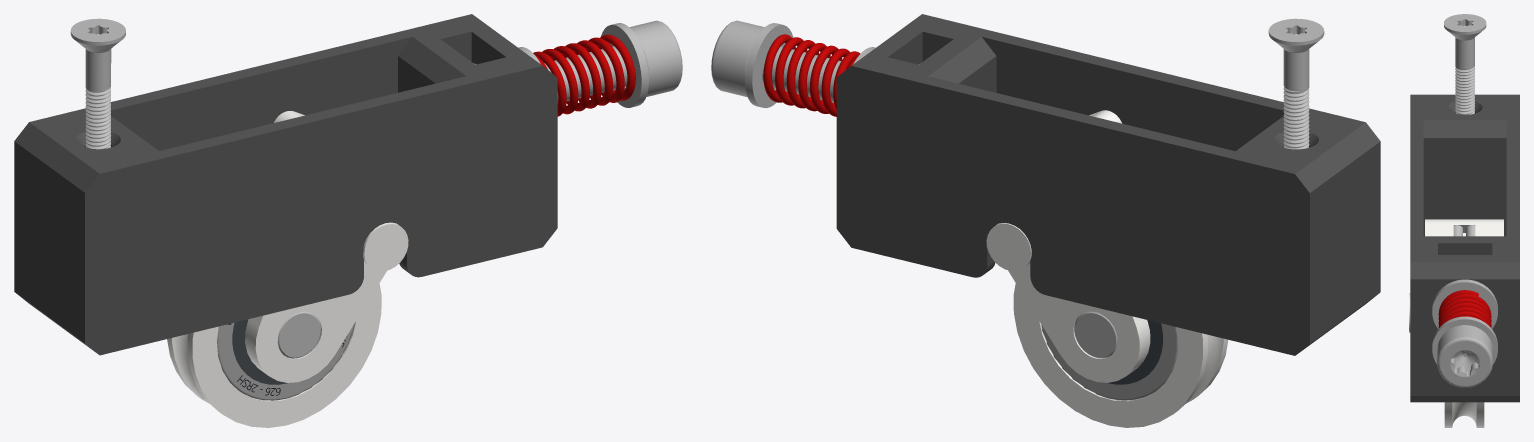
Rendered from WindowRoller_FullAssembly.glb.
The picture shows the model from 3 angles, left to right: view 1: azimuth 30°, elevation 25°; view 2: azimuth 150°, elevation 25°; view 3: azimuth 270°, elevation 25°; orthographic projection. The views are drawn at different scales.
Visible parts, largest first — view 1: BaseBody, Pulley, PulleyHolder, Spring, M3x25-Screw, M5x35-Screw, 626 OuterCage, 6x12_ROD, M5-Washer001, Seal; view 2: BaseBody, Pulley, PulleyHolder, Spring, M3x25-Screw, M5x35-Screw, 626 OuterCage, M5-Washer001, 6x12_ROD, Seal001; view 3: BaseBody, M5x35-Screw, M3x25-Screw, Spring, PulleyHolder, M5-Washer, M5-Washer001, Pulley.
Part boxes in pixels (x1,y1,x2,y2): BaseBody: [14, 14, 557, 355]; Pulley: [167, 283, 381, 427]; PulleyHolder: [245, 111, 408, 382]; Spring: [533, 34, 635, 116]; M3x25-Screw: [70, 18, 125, 149]; M5x35-Screw: [544, 20, 682, 103]; 626 OuterCage: [217, 322, 353, 400]; 6x12_ROD: [277, 311, 320, 358]; M5-Washer001: [601, 23, 648, 107]; Seal: [232, 319, 287, 384]; BaseBody: [836, 14, 1380, 355]; Pulley: [1013, 283, 1228, 427]; PulleyHolder: [986, 110, 1150, 382]; Spring: [763, 34, 860, 116]; M3x25-Screw: [1268, 18, 1324, 149]; M5x35-Screw: [711, 20, 841, 102]; 626 OuterCage: [1041, 323, 1178, 400]; M5-Washer001: [745, 23, 793, 108]; 6x12_ROD: [1074, 311, 1117, 358]; Seal001: [1108, 320, 1163, 384]; BaseBody: [1410, 94, 1519, 402]; M5x35-Screw: [1437, 325, 1493, 387]; M3x25-Screw: [1444, 14, 1486, 114]; Spring: [1438, 290, 1491, 328]; PulleyHolder: [1409, 219, 1503, 332]; M5-Washer: [1432, 279, 1497, 328]; M5-Washer001: [1432, 316, 1497, 364]; Pulley: [1444, 402, 1484, 427].
Size of the model in its own units: 0.0835 by 0.0554 by 0.0168.
